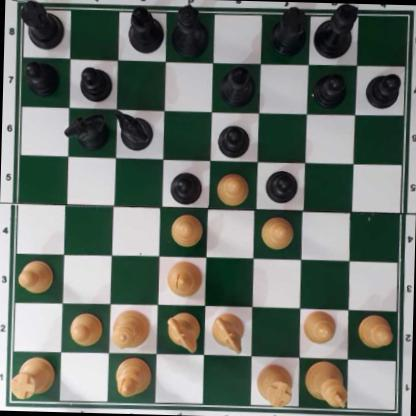black-bishop: (126, 3, 163, 52), (221, 65, 255, 107)
black-king: (313, 4, 356, 60)
black-knight: (68, 110, 109, 149), (114, 110, 154, 149)
black-pawn: (365, 71, 402, 110), (23, 60, 60, 96), (215, 122, 250, 157), (168, 169, 202, 205), (314, 70, 347, 106), (265, 168, 298, 203), (79, 64, 110, 101)
black-queen: (169, 3, 210, 55)
black-rook: (17, 0, 65, 51), (268, 5, 307, 57)
white-bishop: (113, 356, 150, 399), (166, 259, 202, 296)
white-king: (305, 360, 349, 411)
white-knight: (164, 313, 200, 352), (209, 312, 244, 352)
white-pawn: (66, 310, 101, 346), (355, 313, 392, 347), (301, 309, 335, 345), (18, 259, 54, 293), (259, 214, 293, 249), (214, 170, 249, 203), (169, 211, 202, 246)
white-queen: (111, 307, 148, 349)
white-rook: (8, 354, 54, 398), (256, 363, 293, 407)
